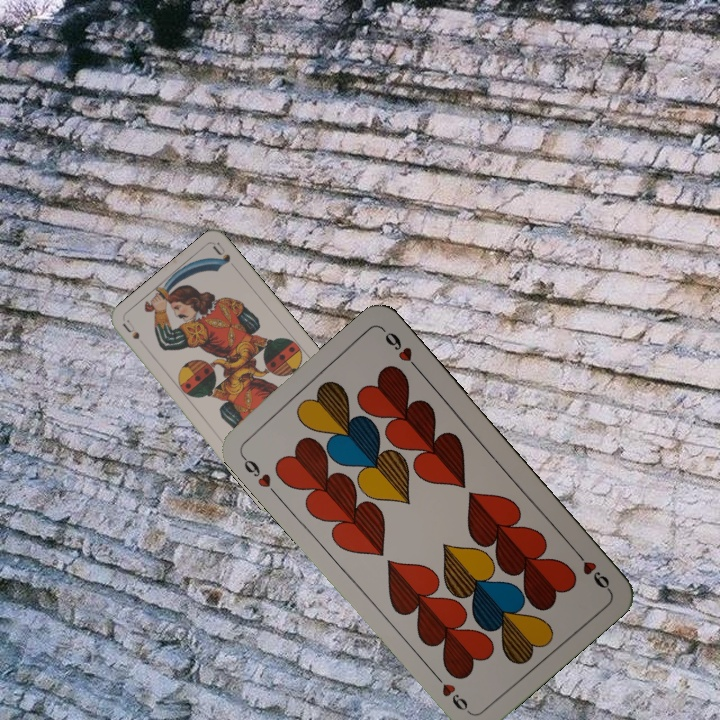H9: (569, 544, 613, 593), (236, 450, 280, 498)
SU: (119, 316, 142, 342)
